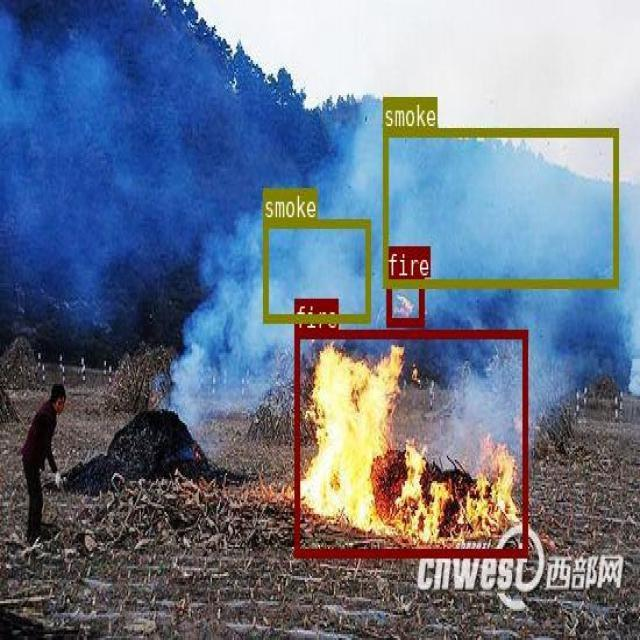fire: (294, 329, 526, 557), (386, 277, 424, 325)
smoke: (383, 127, 618, 285), (262, 218, 369, 322)
